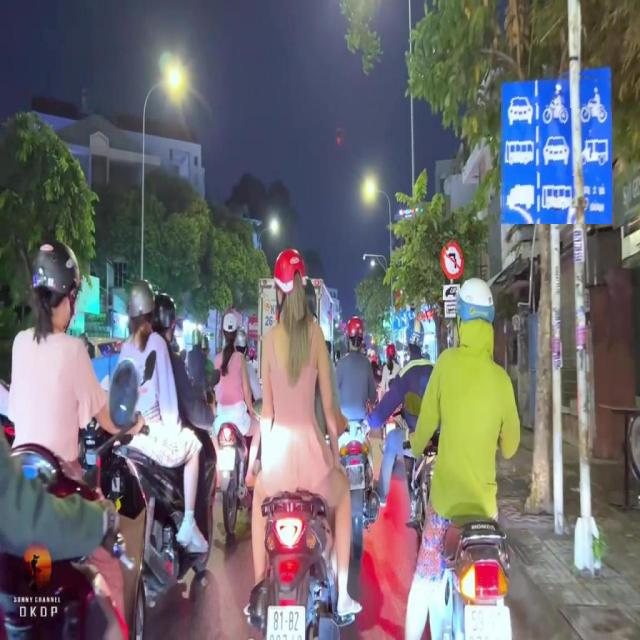cam_re_trai: (440, 240, 464, 279)
huong_di_tren_moi_lan_duong_theo_vach_ke_duong: (394, 312, 414, 329)
khac: (444, 284, 459, 300), (445, 301, 457, 318)
lan_duong_cho_tung_xe_theo_vach_ke_duong: (501, 68, 612, 224)
